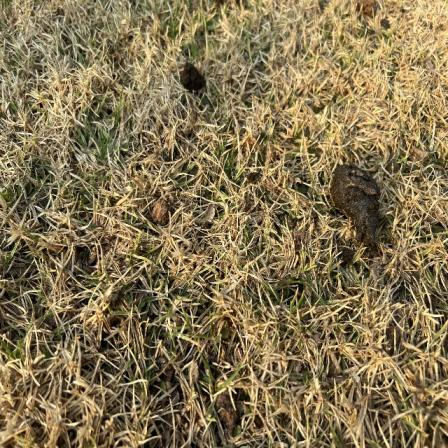dog-poop: (324, 162, 398, 257)
